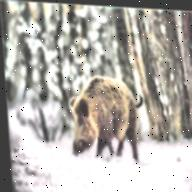boar: (51, 55, 164, 161)
